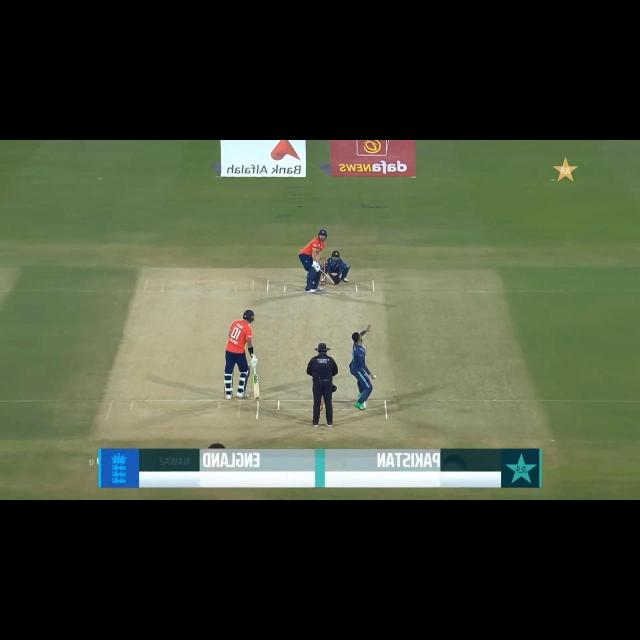bat: (319, 270, 335, 285), (252, 374, 260, 400)
toe: (254, 396, 259, 400), (331, 280, 334, 286)
